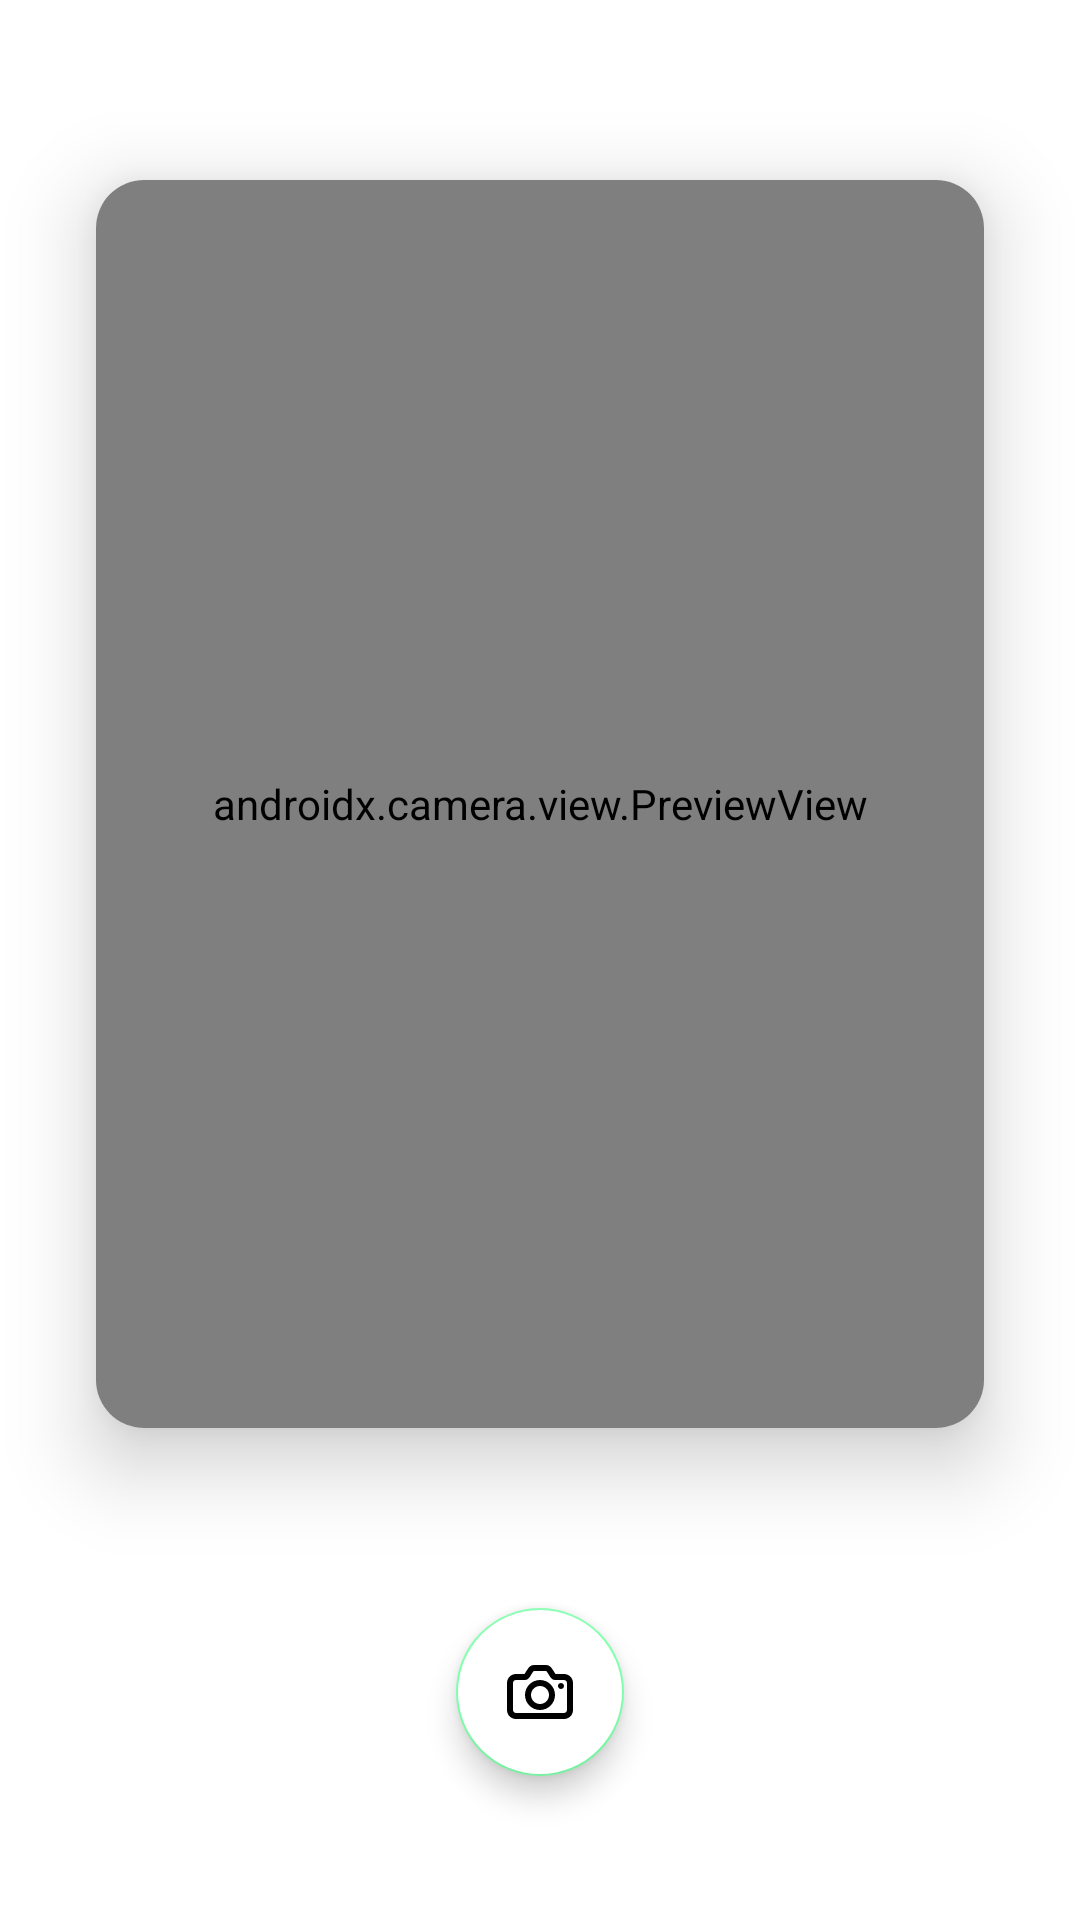

Where to tap for icons on this 1080w x 1920h app screen, as (x=x, y=y):
camera: (x=540, y=1692)
